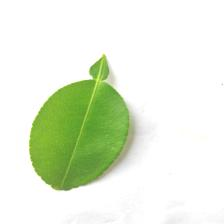greening: (22, 75, 135, 195)
